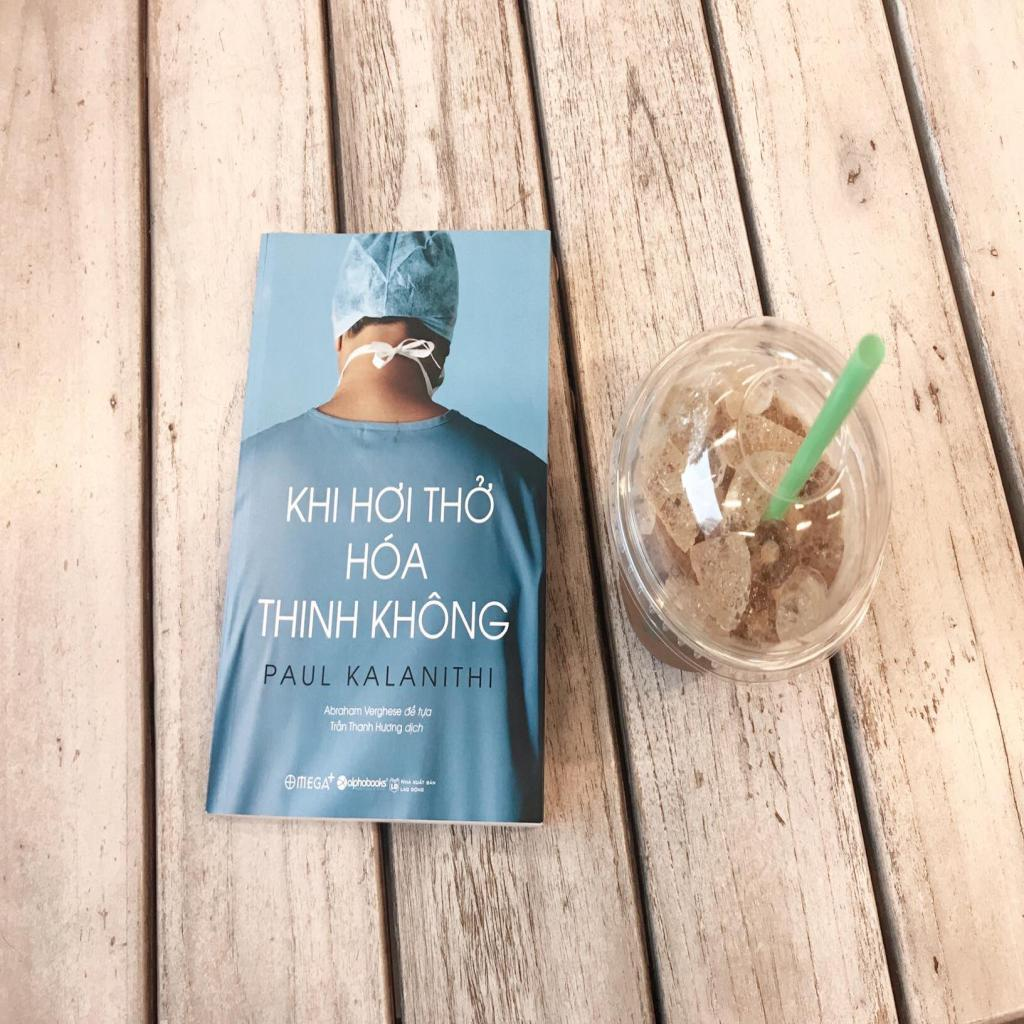text: (369, 591, 510, 643), (256, 598, 360, 640), (345, 533, 429, 582), (423, 472, 495, 528), (346, 666, 494, 690), (351, 483, 413, 525), (285, 486, 341, 525), (263, 663, 333, 689), (364, 705, 403, 722), (345, 775, 387, 790), (296, 774, 332, 791), (323, 706, 363, 717), (376, 722, 403, 736), (348, 720, 374, 734), (404, 721, 425, 737), (418, 706, 434, 722), (330, 720, 348, 732), (404, 704, 418, 719), (327, 772, 337, 784), (413, 779, 425, 787), (426, 779, 437, 787), (400, 779, 412, 786), (390, 783, 400, 791), (400, 786, 410, 793)
